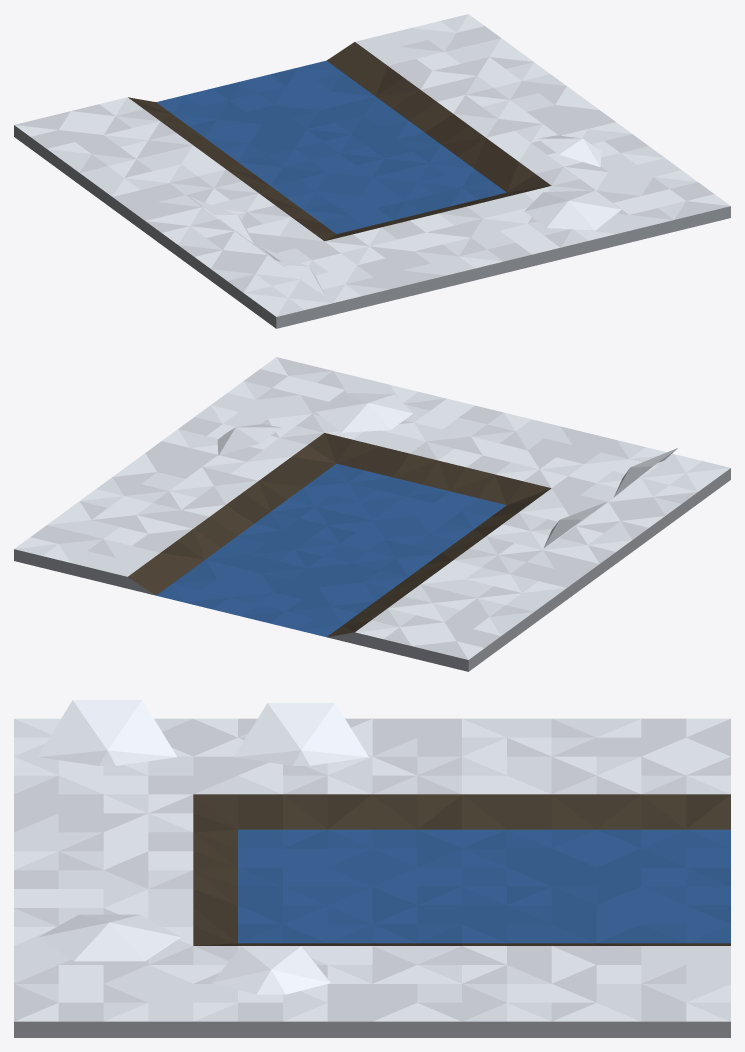
The model's file is river_end_snow.obj.
The picture shows the model from 3 angles, top to bottom: view 1: azimuth 30°, elevation 25°; view 2: azimuth 150°, elevation 25°; view 3: azimuth 270°, elevation 25°; orthographic projection. The views are drawn at different scales.
Size of the model in its own units: 4 by 0.482 by 4.
